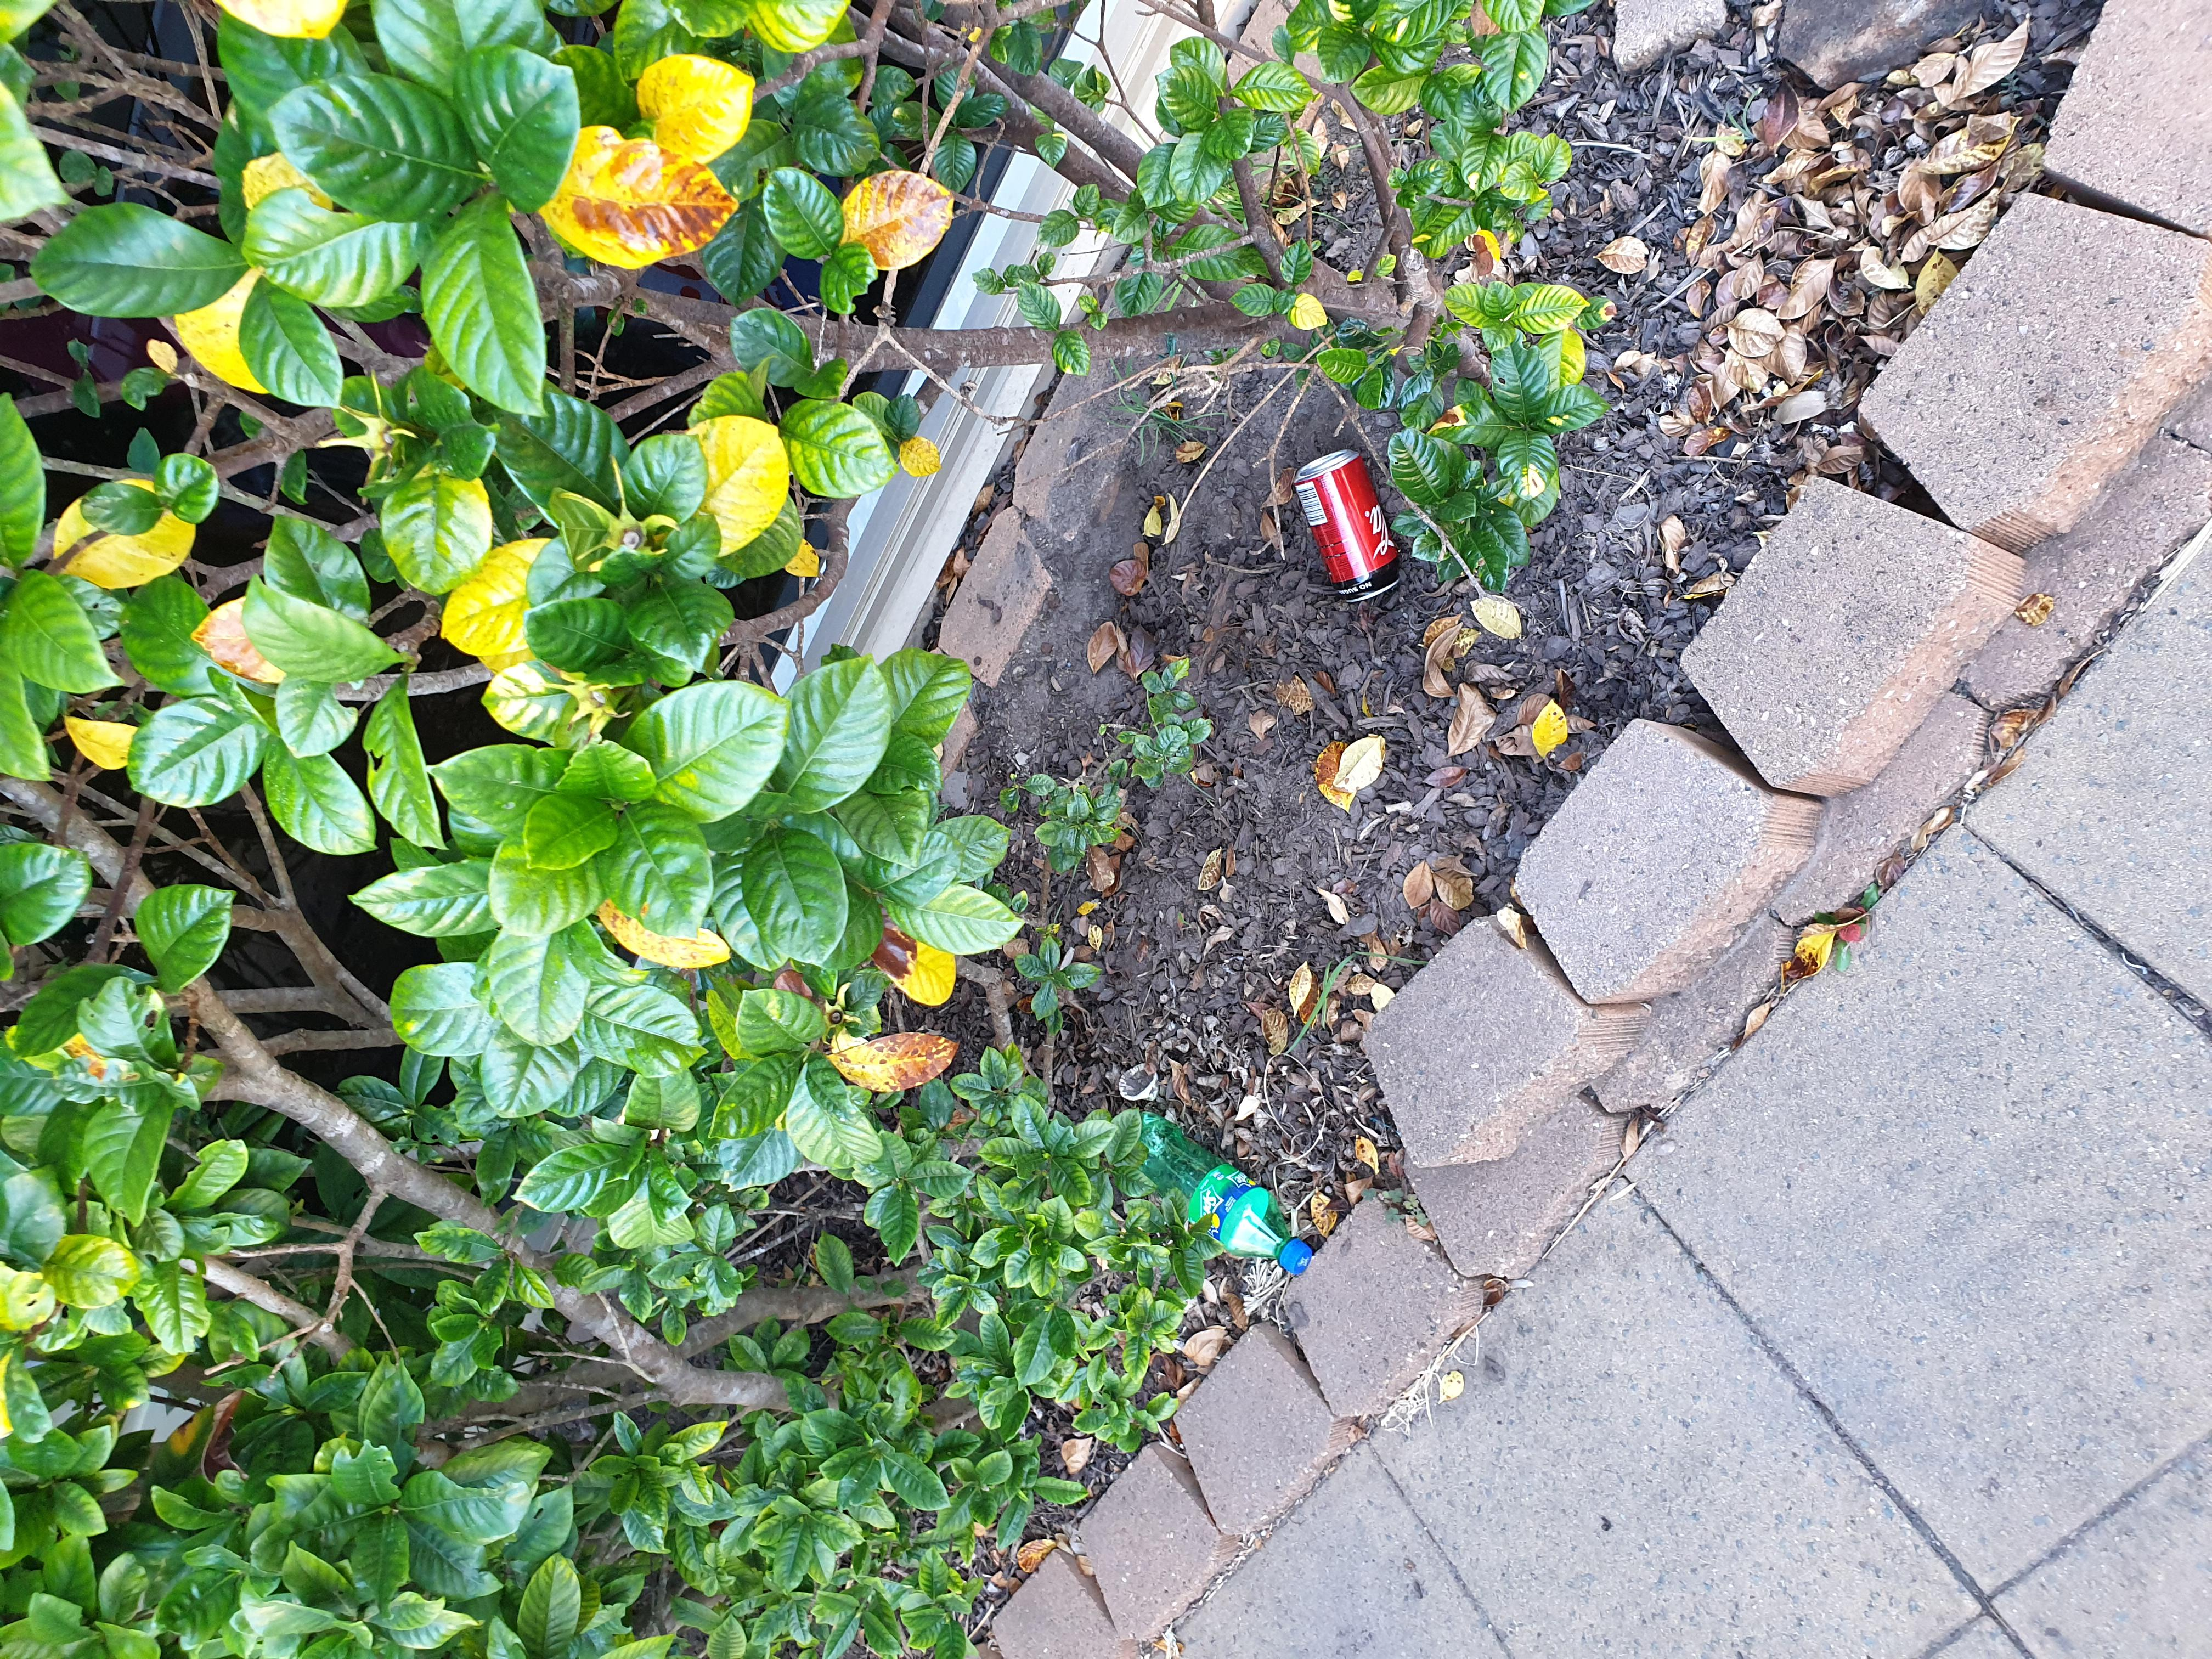Plastic Bottle: (1116, 1114, 1312, 1274), (1294, 450, 1404, 603)
